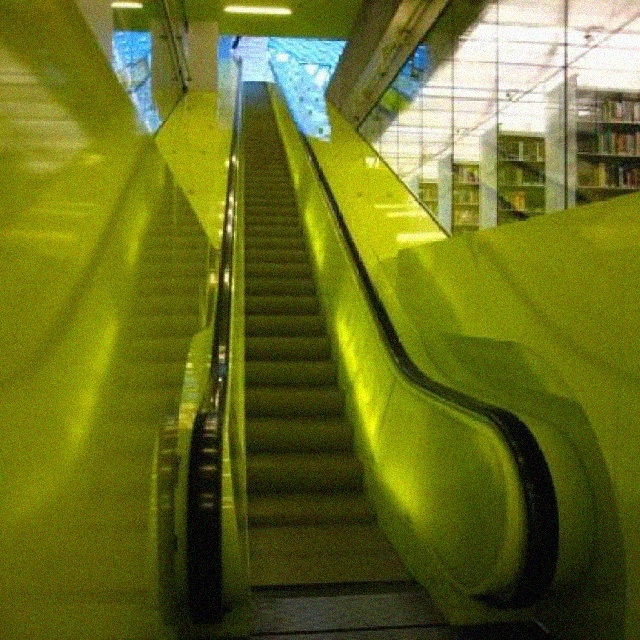stair: (240, 79, 423, 586)
